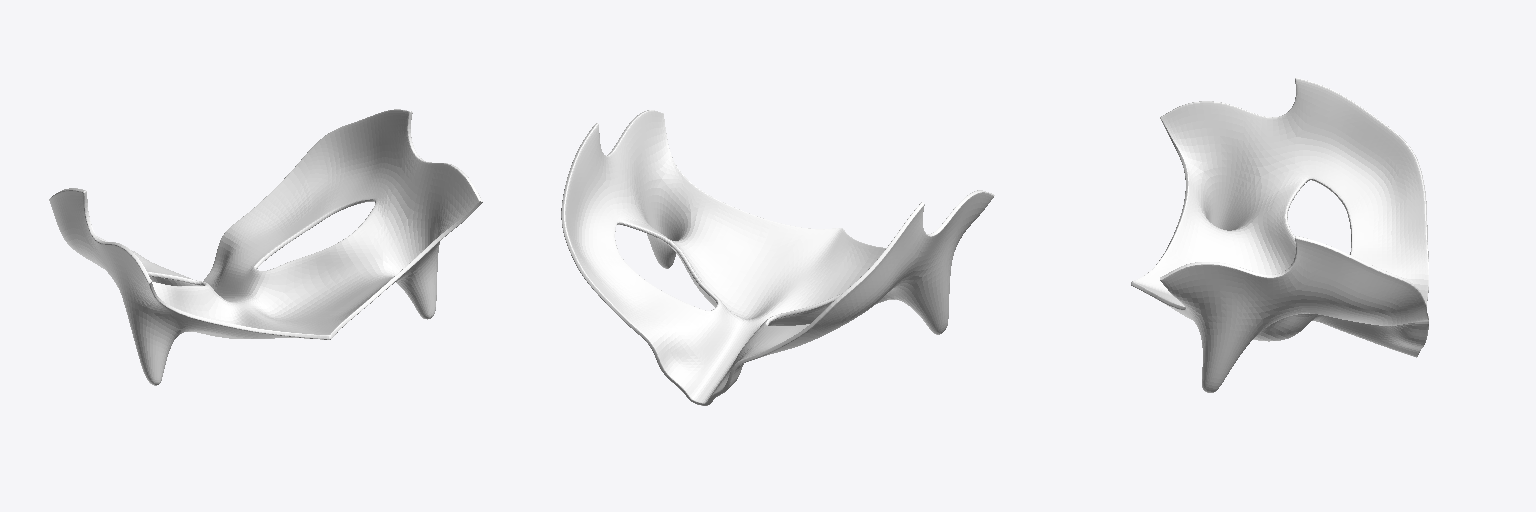
The model's file is 13551_Diavolo_Mask_v1_l3.obj.
3 views of the same model, side by side, from view 1: azimuth 30°, elevation 25°; view 2: azimuth 150°, elevation 25°; view 3: azimuth 270°, elevation 25° (orthographic).
Visible parts, largest first — view 1: 13551_Diavolo_Mask_v1_red; view 2: 13551_Diavolo_Mask_v1_red; view 3: 13551_Diavolo_Mask_v1_red.
Boxes of the visible parts, <box> form: 13551_Diavolo_Mask_v1_red: <box>49,109,482,385</box>; 13551_Diavolo_Mask_v1_red: <box>561,110,994,405</box>; 13551_Diavolo_Mask_v1_red: <box>1131,78,1428,392</box>.
Size of the model in its own units: 14.07 by 7.97 by 10.89.